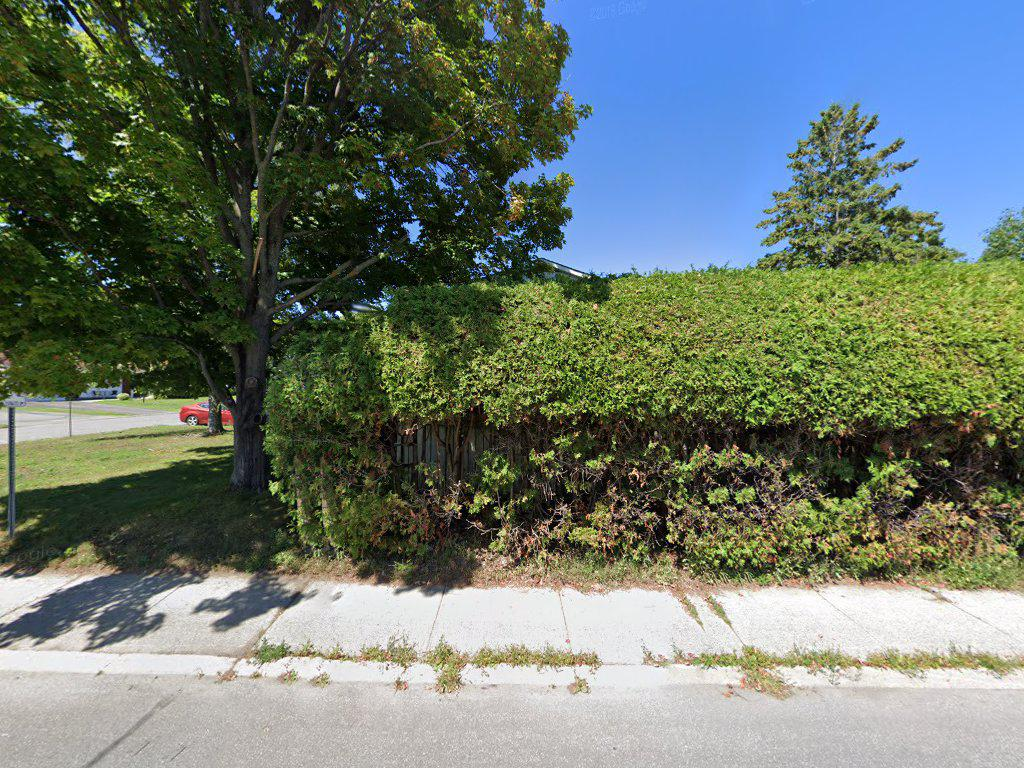trunk: (217, 334, 273, 503)
